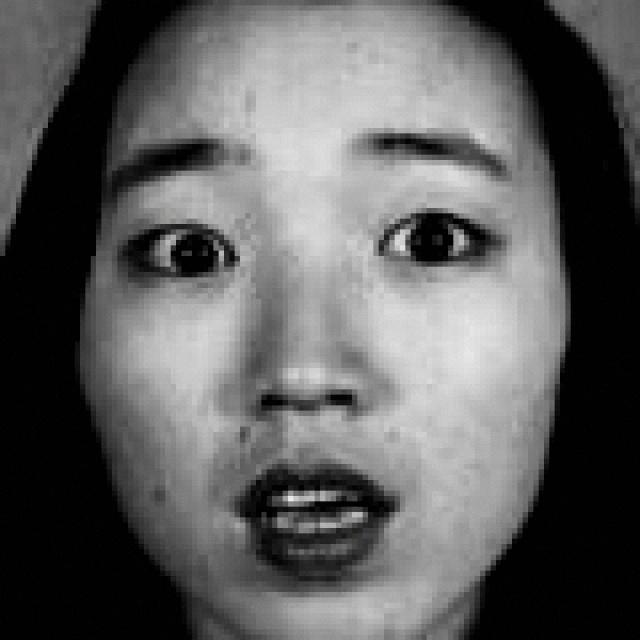surprise: (102, 18, 573, 640)
